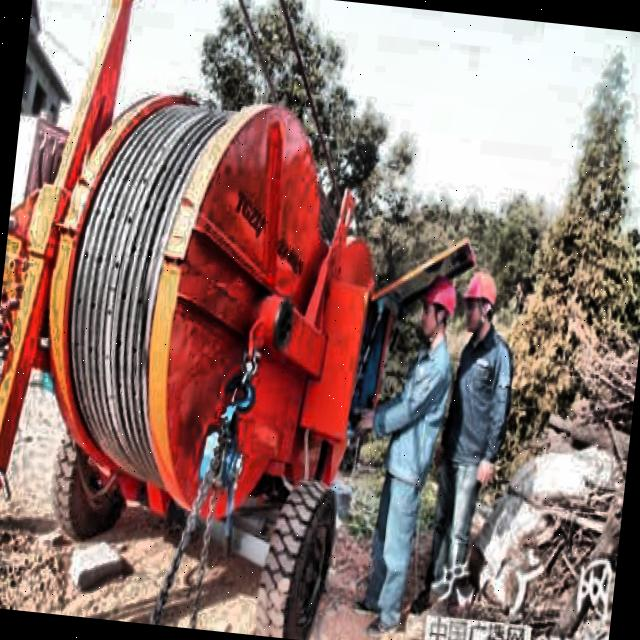helmet: (461, 270, 502, 332), (422, 278, 458, 342)
